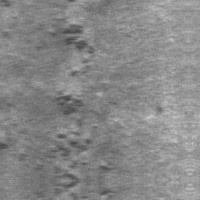rolled-in_scale: (31, 89, 104, 181), (45, 7, 94, 78)
